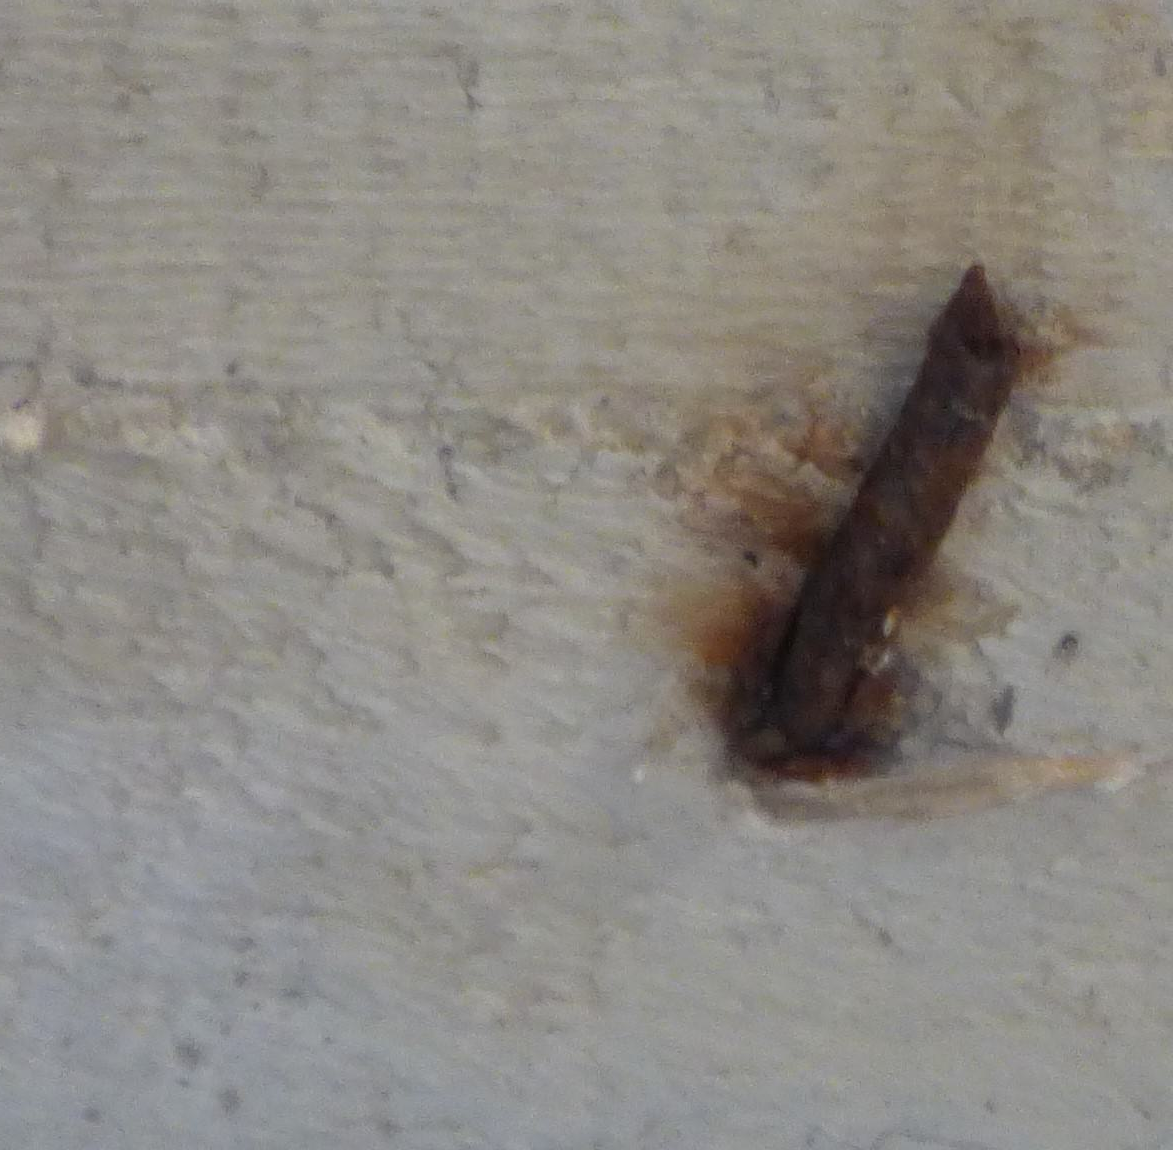Exposed reinforcement: (776, 259, 1014, 745)
